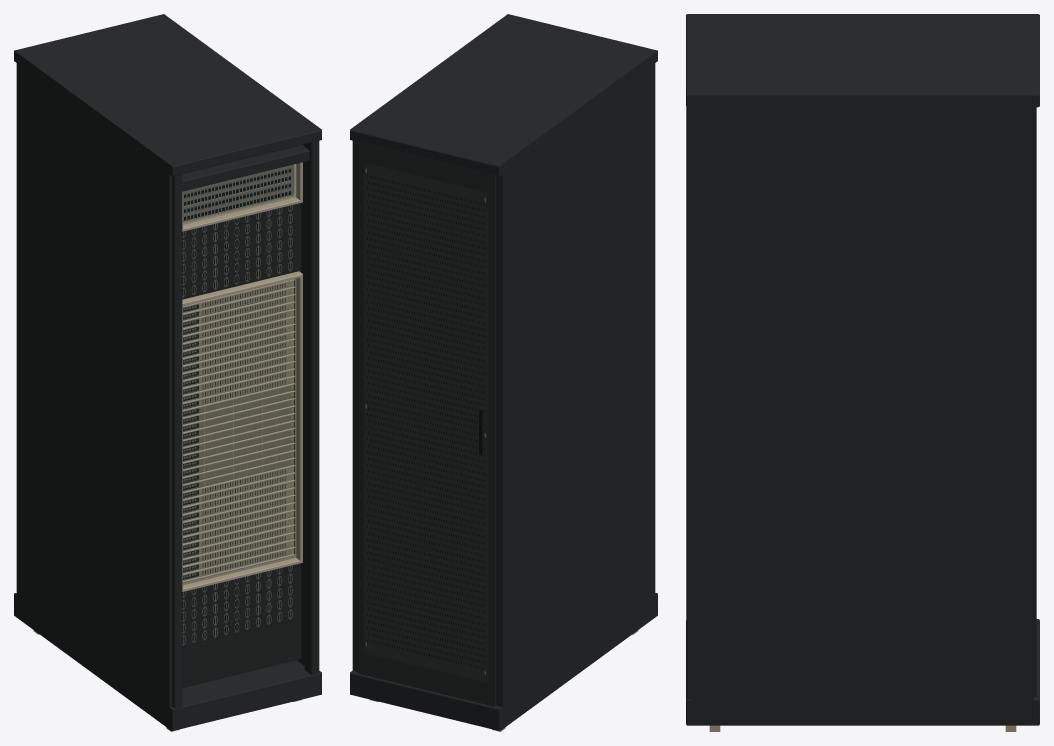
Rendered from server-rack.glb.
3 renders of one model, left to right at view 1: azimuth 30°, elevation 25°; view 2: azimuth 150°, elevation 25°; view 3: azimuth 270°, elevation 25°, orthographic. The views are drawn at different scales.
Parts seen in each view (by area): view 1: ServerRack; view 2: ServerRack; view 3: ServerRack.
Part boxes in pixels (<box>): ServerRack: <box>14,14,321,731</box>; ServerRack: <box>350,14,657,731</box>; ServerRack: <box>686,14,1039,731</box>.
Size of the model in its own units: 0.6 by 2.2 by 1.1.
Materials: 1 (1 with a texture image).
